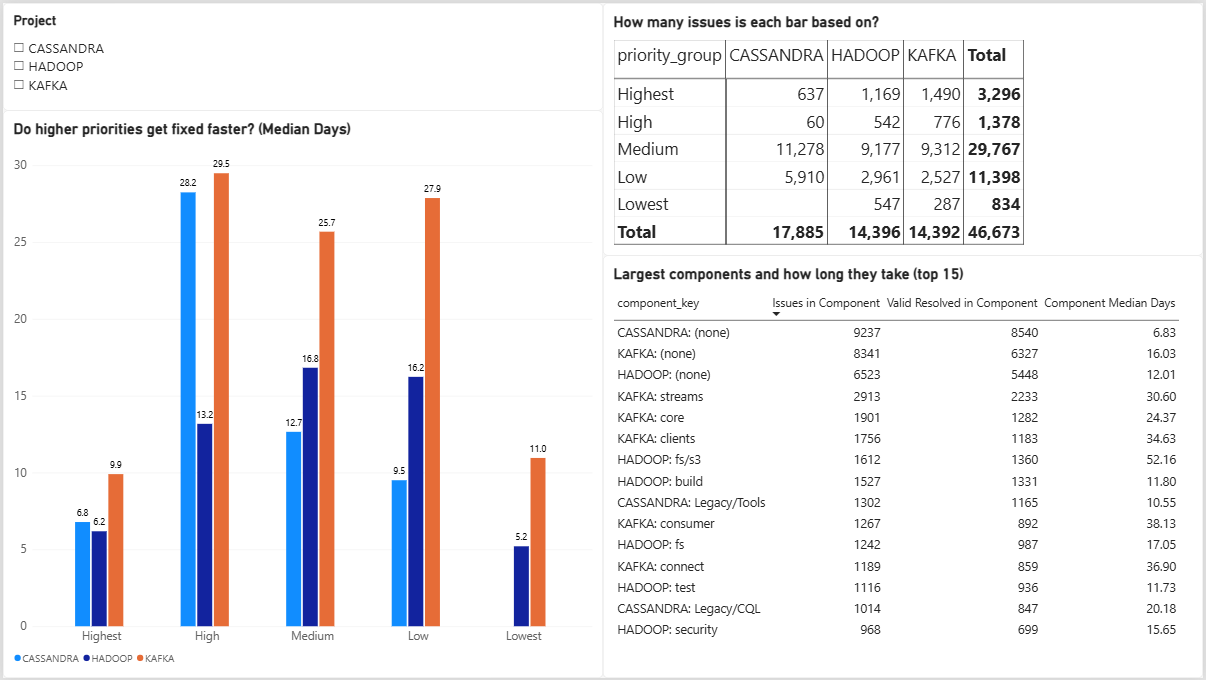

The page's visual inventory and layout, read from the dashboard file:
{"tool":"powerbi","page":{"name":"Speed","canvas":[1920,1080],"ordinal":1},"visuals":[{"type":"clusteredColumnChart","title":"Do higher priorities get fixed faster? (Median Days)","fields":{"Category":["dim_priority.priority_group"],"Series":["dim_project.project"],"Y":["fact_issues.Median Days"]},"box":[0,172,960,908],"z":0},{"type":"pivotTable","title":"How many issues is each bar based on?","fields":{"Columns":["dim_project.project"],"Rows":["dim_priority.priority_group"],"Values":["fact_issues.Valid Resolved Issues"]},"box":[960,0,960,404],"z":1000},{"type":"tableEx","title":"Largest components and how long they take (top 15)","fields":{"Values":["dim_component.component_key","fact_issues.Issues in Component","fact_issues.Valid Resolved in Component","fact_issues.Component Median Days"]},"box":[960,404,960,676],"z":2000},{"type":"listSlicer","title":"Project","fields":{"Values":["dim_project.project"]},"box":[0,0,960,172],"z":3000}]}

Visuals, with their boxes in screenshot pixels (x1, y1, x2, y2), scaled from the page's 1920x1080 canvas onto the 1206x680 screenshot:
"Do higher priorities get fixed faster? (Median Days)" clusteredColumnChart: select_region(0, 108, 603, 679)
"How many issues is each bar based on?" pivotTable: select_region(603, 0, 1205, 254)
"Largest components and how long they take (top 15)" tableEx: select_region(603, 254, 1205, 679)
"Project" listSlicer: select_region(0, 0, 603, 108)
